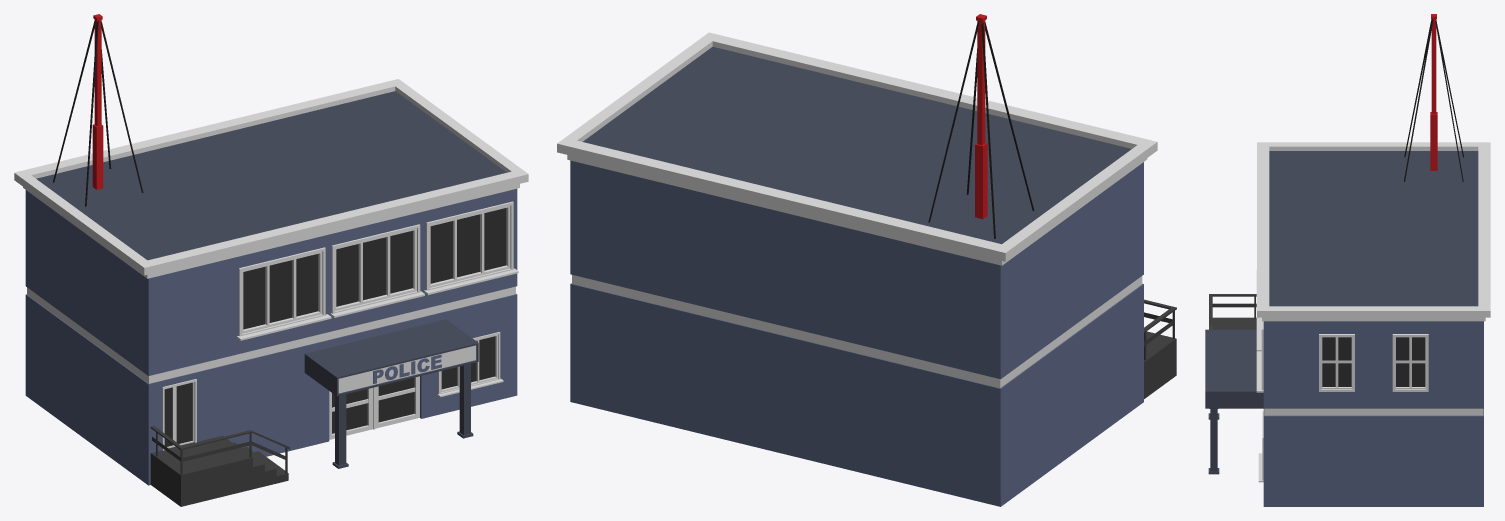
File: police.glb
3 renders of one model, left to right at view 1: azimuth 30°, elevation 25°; view 2: azimuth 150°, elevation 25°; view 3: azimuth 270°, elevation 25°, orthographic. The views are drawn at different scales.
Visible parts, largest first — view 1: Police Station; view 2: Police Station; view 3: Police Station.
Part boxes in pixels (x1=…): Police Station: x1=14, y1=14, x2=528, y2=506; Police Station: x1=557, y1=14, x2=1176, y2=506; Police Station: x1=1205, y1=14, x2=1490, y2=506.
Bounding box in the file's own units: 13.55 × 13.11 × 9.71.
